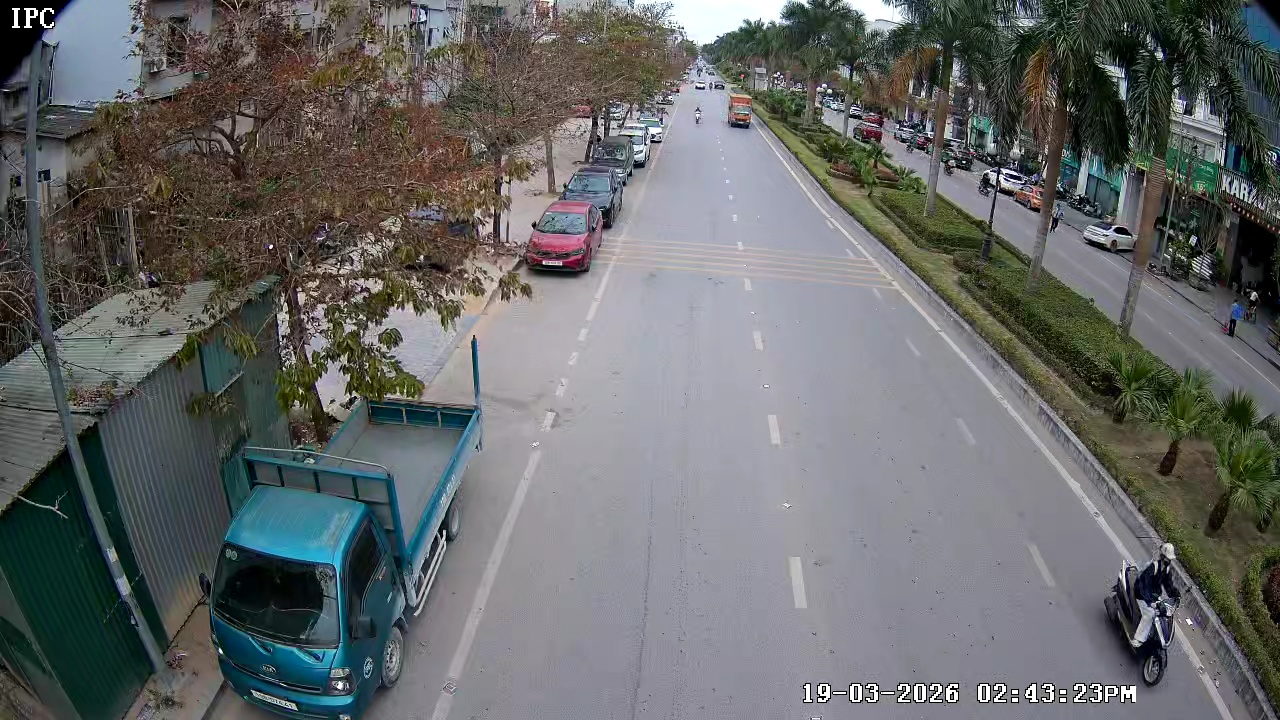car: (526, 199, 600, 276)
motorbike: (1111, 536, 1204, 692)
truck: (728, 92, 756, 132)
